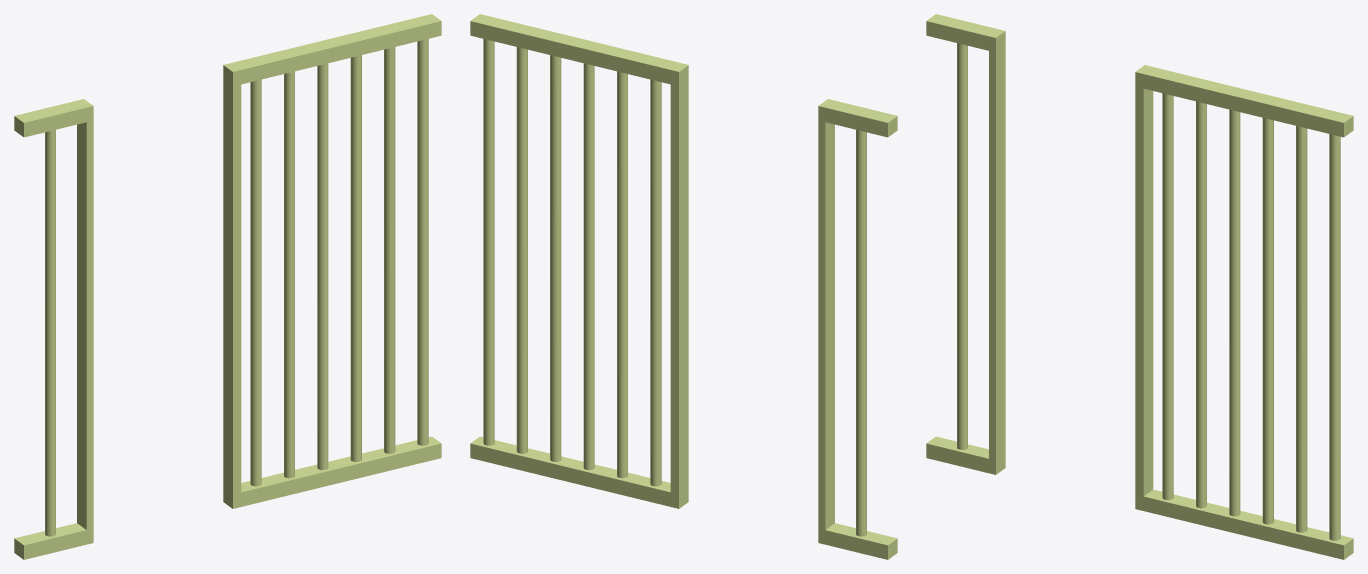
The model's file is rejaspuerta.obj.
The picture shows the model from 3 angles, left to right: view 1: azimuth 30°, elevation 25°; view 2: azimuth 150°, elevation 25°; view 3: azimuth 330°, elevation 25°; orthographic projection.
Visible parts, largest first — view 1: Box003; view 2: Box003; view 3: Box003.
Boxes of the visible parts, x1=… form: Box003: x1=14, y1=14, x2=441, y2=559; Box003: x1=470, y1=14, x2=897, y2=559; Box003: x1=926, y1=14, x2=1353, y2=559.
Bounding box in the file's own units: 30.01 × 30 × 1.2.
